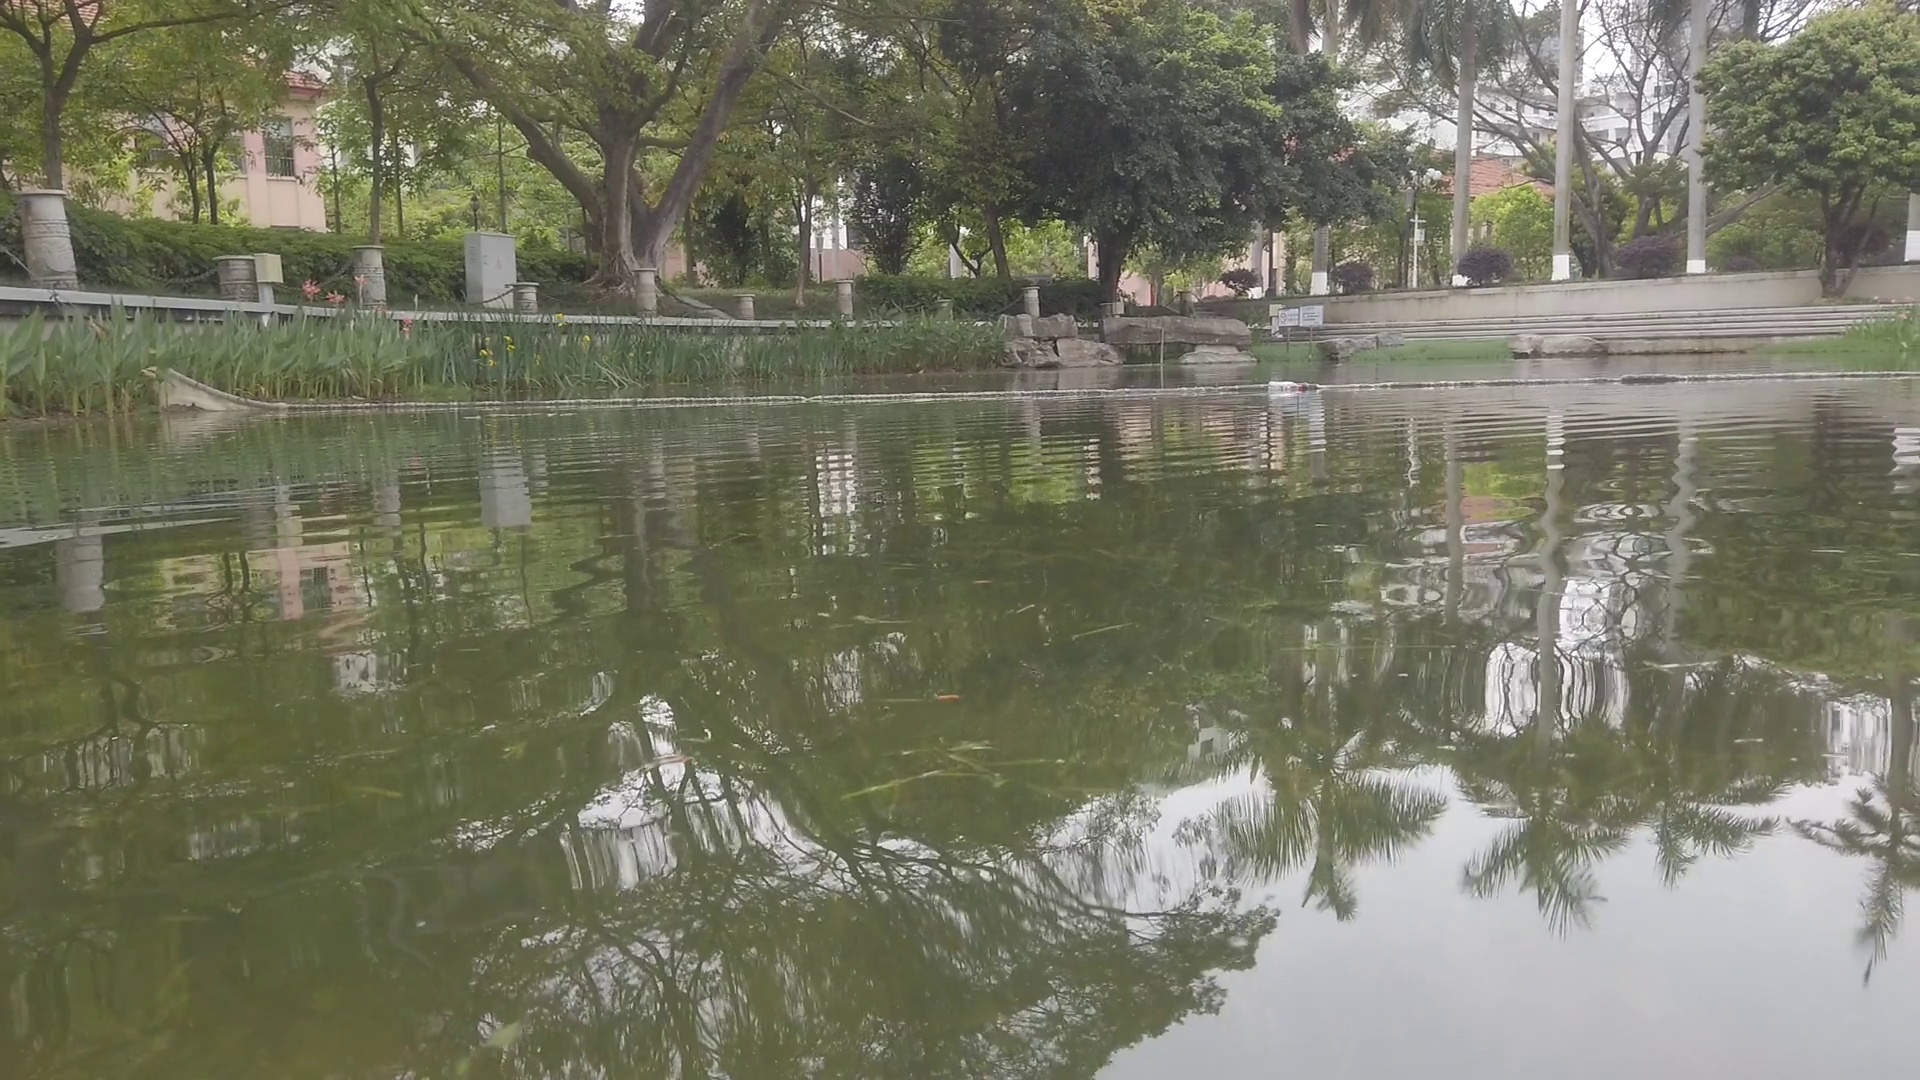bottle: (1267, 380, 1305, 393)
